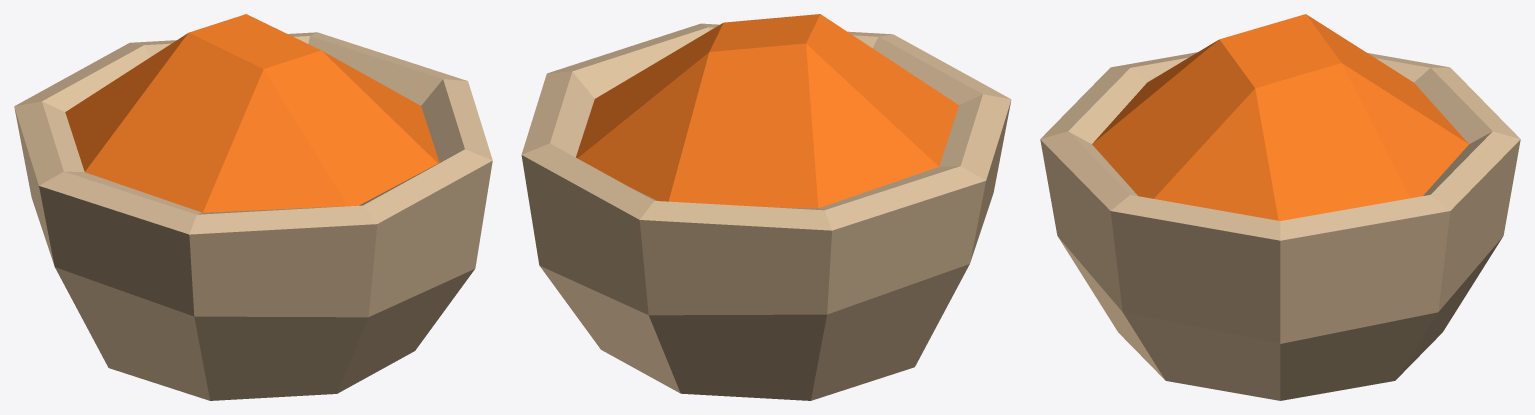
The model's file is egypt_egypt-bowl-spice-full.fbx.
3 renders of one model, left to right at view 1: azimuth 30°, elevation 25°; view 2: azimuth 150°, elevation 25°; view 3: azimuth 270°, elevation 25°, orthographic. The views are drawn at different scales.
Visible parts, largest first — view 1: egypt_egypt_bowl_spice_full; view 2: egypt_egypt_bowl_spice_full; view 3: egypt_egypt_bowl_spice_full.
Boxes of the visible parts, box(x1,y1,x2,y2) form: egypt_egypt_bowl_spice_full: box(14, 14, 492, 400); egypt_egypt_bowl_spice_full: box(521, 14, 1011, 400); egypt_egypt_bowl_spice_full: box(1040, 14, 1520, 400).
Bounding box in the file's own units: 200 × 135 × 200.
